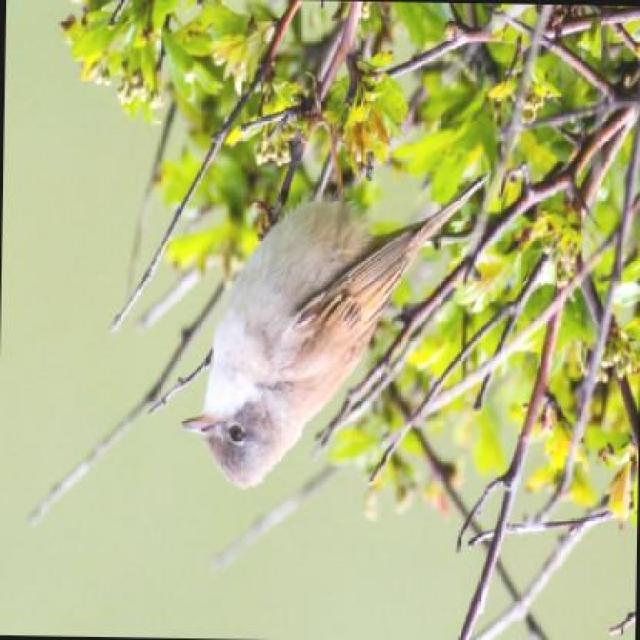Bird: (175, 142, 499, 532)
